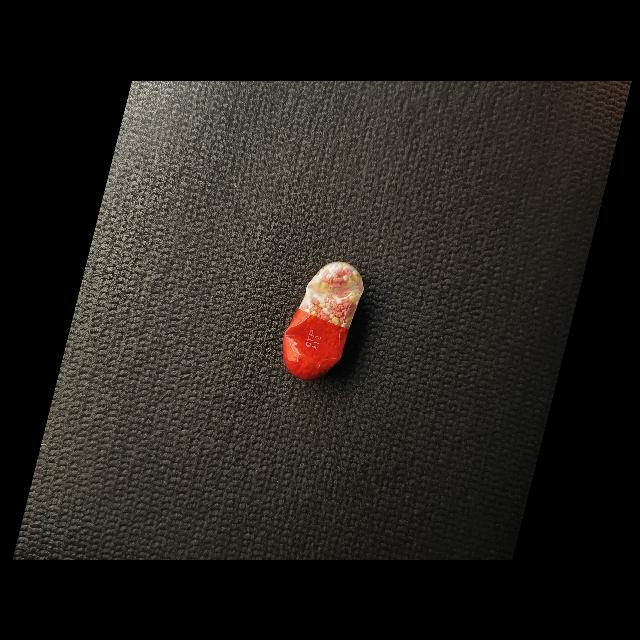Defective Capsule: (283, 261, 364, 380)
